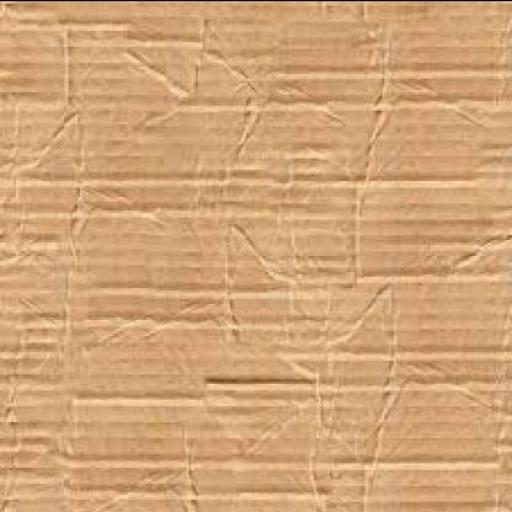cardboard: (0, 1, 511, 510)
